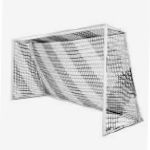goals: (9, 21, 145, 139)
